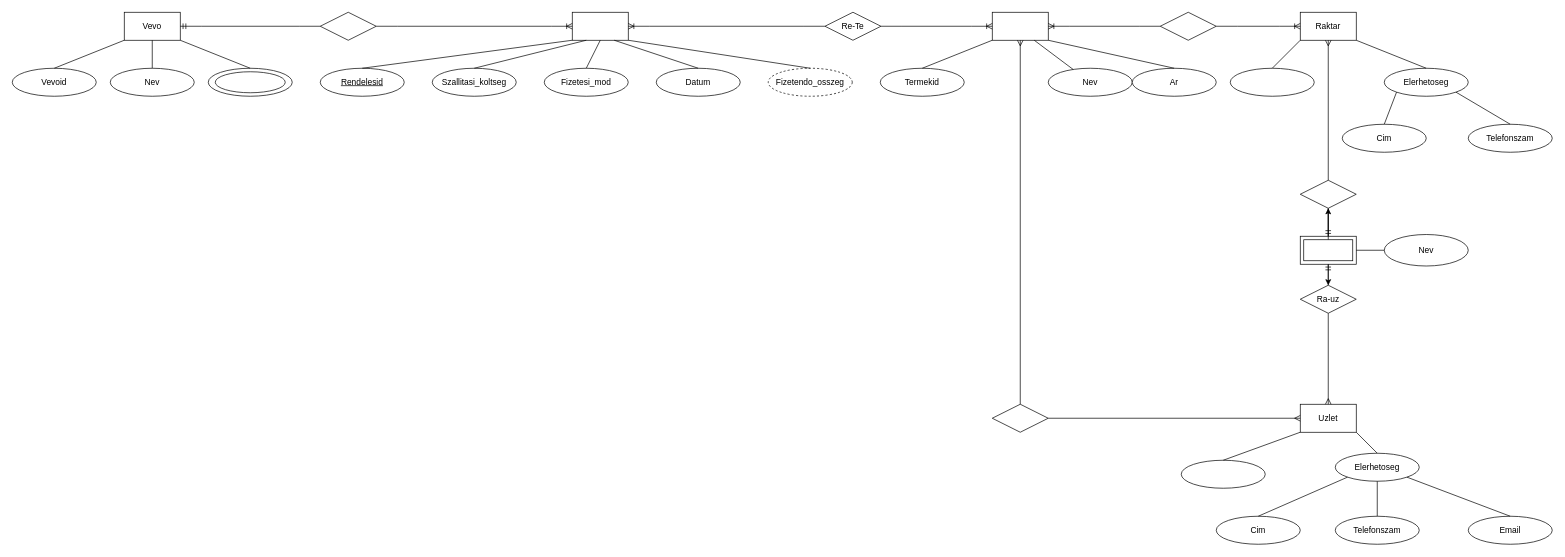
The diagram is 1565 pixels wide and 557 high, and some of its shapes have lost their labels. The shapes that lost their labels are listed below. From the top down, each one's centre as x and y in pixels, then its label:
the point at 348,26: Ve-Re
the point at 600,26: Rendeles
the point at 1020,26: Termek
the point at 1188,26: Te-Ra
the point at 250,82: Szallitasi_cim
the point at 1272,82: Raktarid
the point at 1328,194: Ra-Tu
the point at 1328,250: Tulajdonos
the point at 1020,418: Te-Uz
the point at 1223,474: Uzletid
